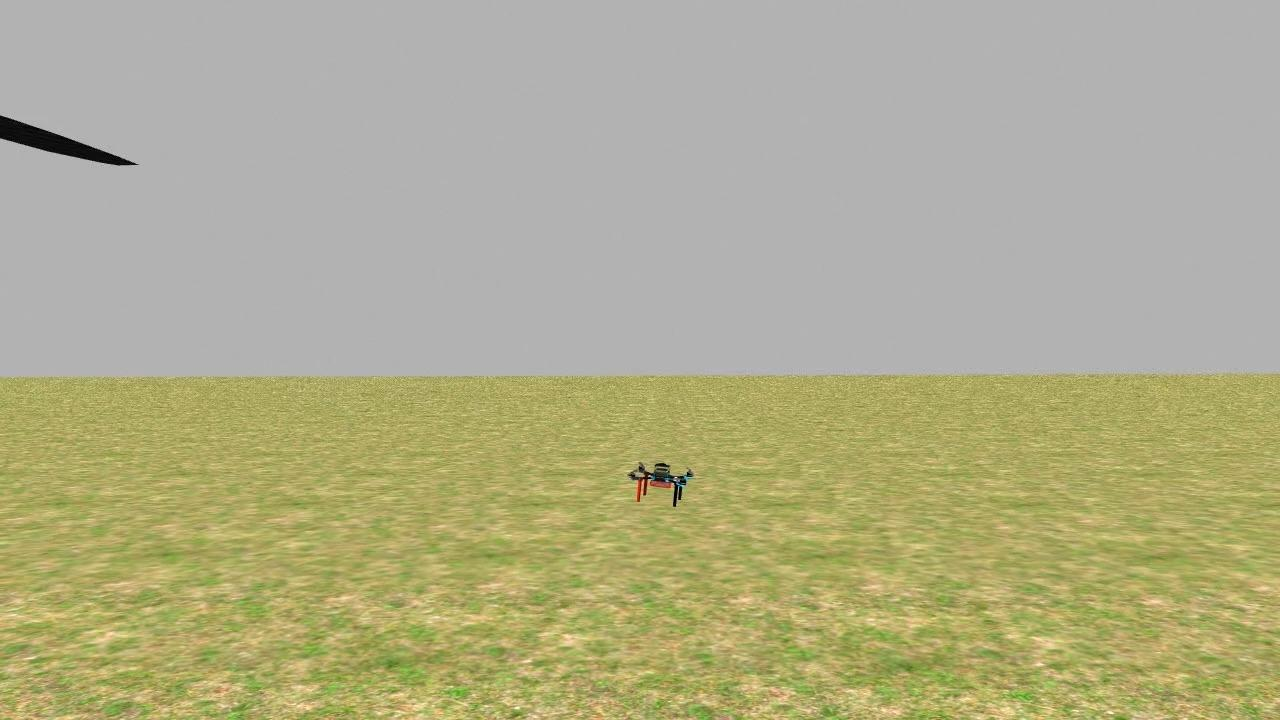UAV: (618, 444, 703, 514)
